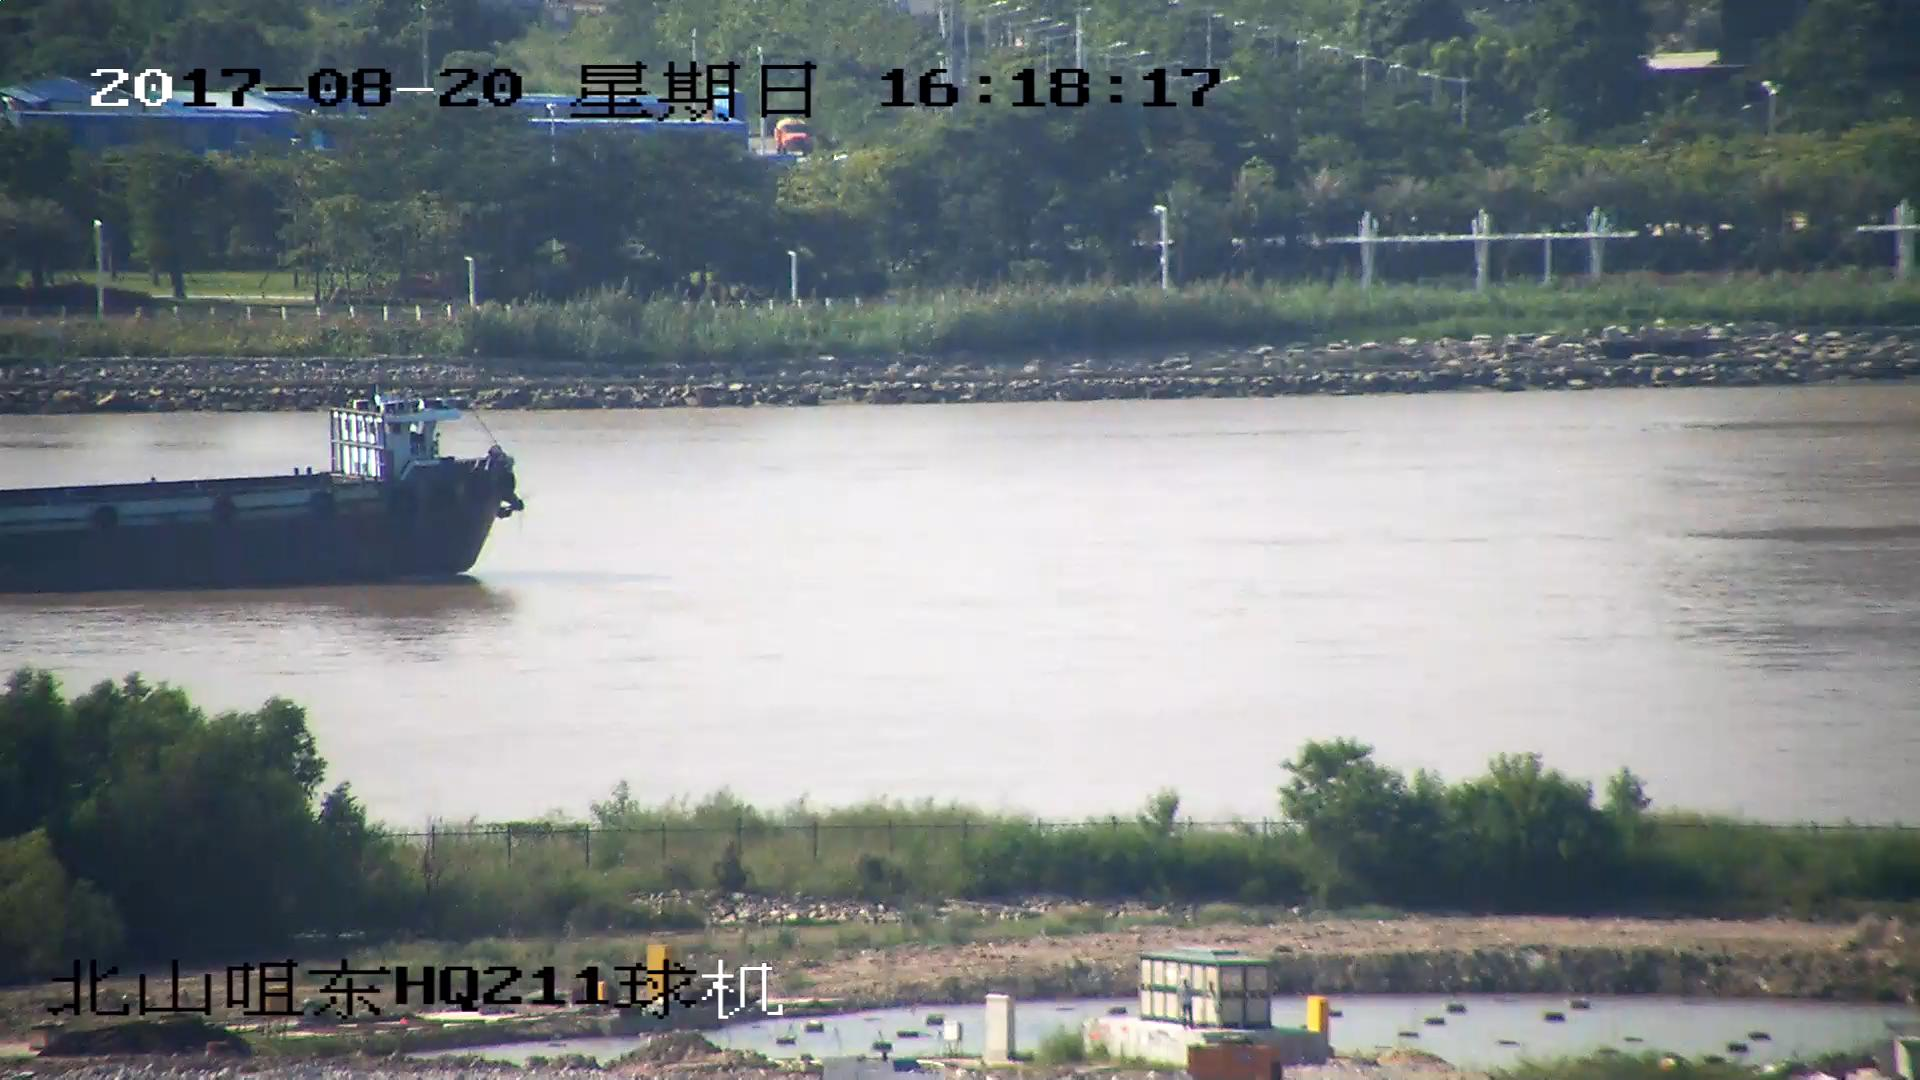general cargo ship: (1, 395, 519, 586)
